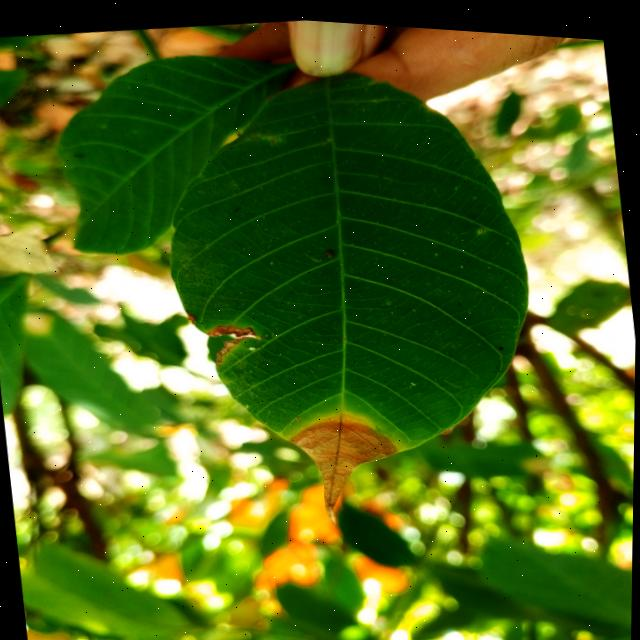Colletotrichum: (499, 339, 504, 343)
Leaf-Blight: (289, 406, 406, 528), (206, 316, 260, 365)
